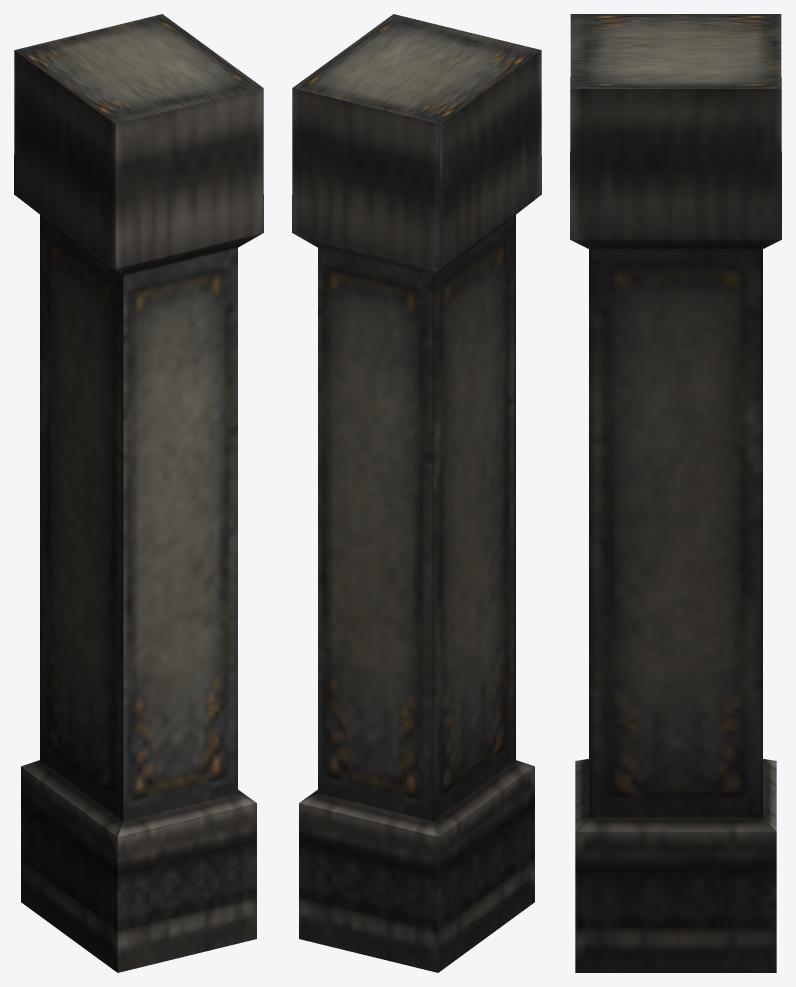
Rendered from tlfb_zhuzi.FBX.
3 renders of one model, left to right at view 1: azimuth 30°, elevation 25°; view 2: azimuth 150°, elevation 25°; view 3: azimuth 270°, elevation 25°, orthographic. The views are drawn at different scales.
Visible parts, largest first — view 1: tlfb_zhuzi; view 2: tlfb_zhuzi; view 3: tlfb_zhuzi.
Boxes of the visible parts, x1=… form: tlfb_zhuzi: x1=14, y1=14, x2=263, y2=972; tlfb_zhuzi: x1=292, y1=14, x2=541, y2=972; tlfb_zhuzi: x1=570, y1=14, x2=781, y2=972.
Bounding box in the file's own units: 109 × 601 × 130.
